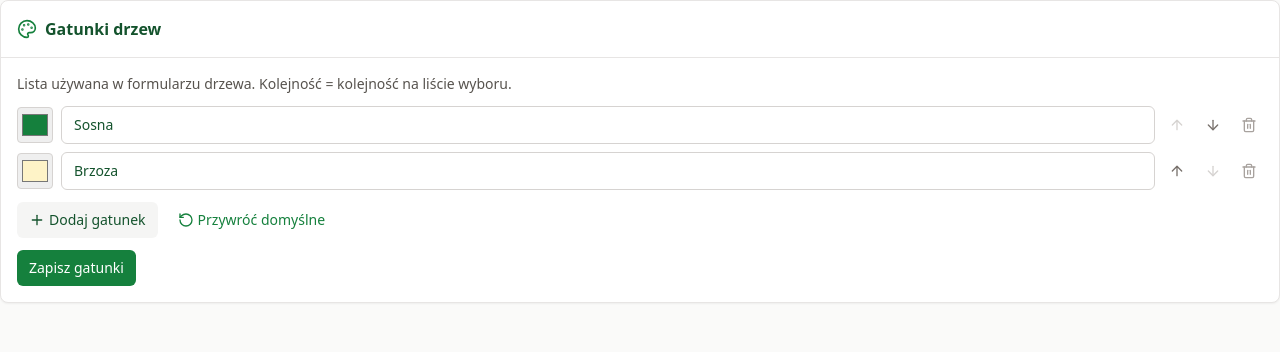
Test: SpeciesEditor › should show error when species names duplicate
Step 1. Replace the text in the field named "Nazwa gatunku 1" with "Brzoza" → (608, 125), box [61,106,1155,144]
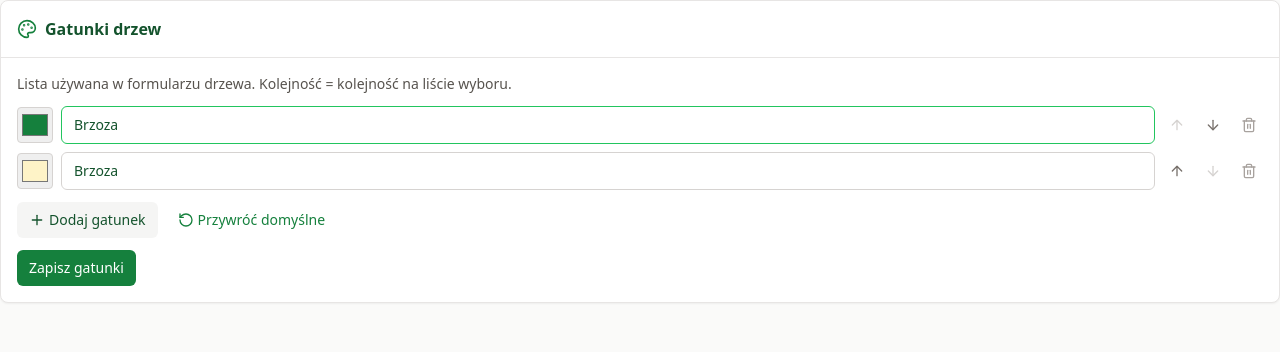
Step 2. Click the button with test id "species-save" → click(76, 268), box [17,250,136,286]
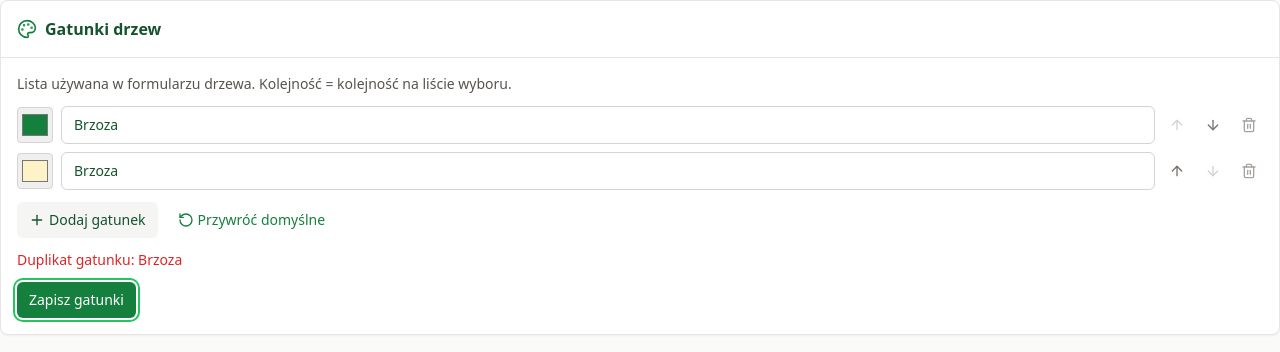
Expected: the message with test id "species-error" shows "Brzoza", [17,250,182,269]
